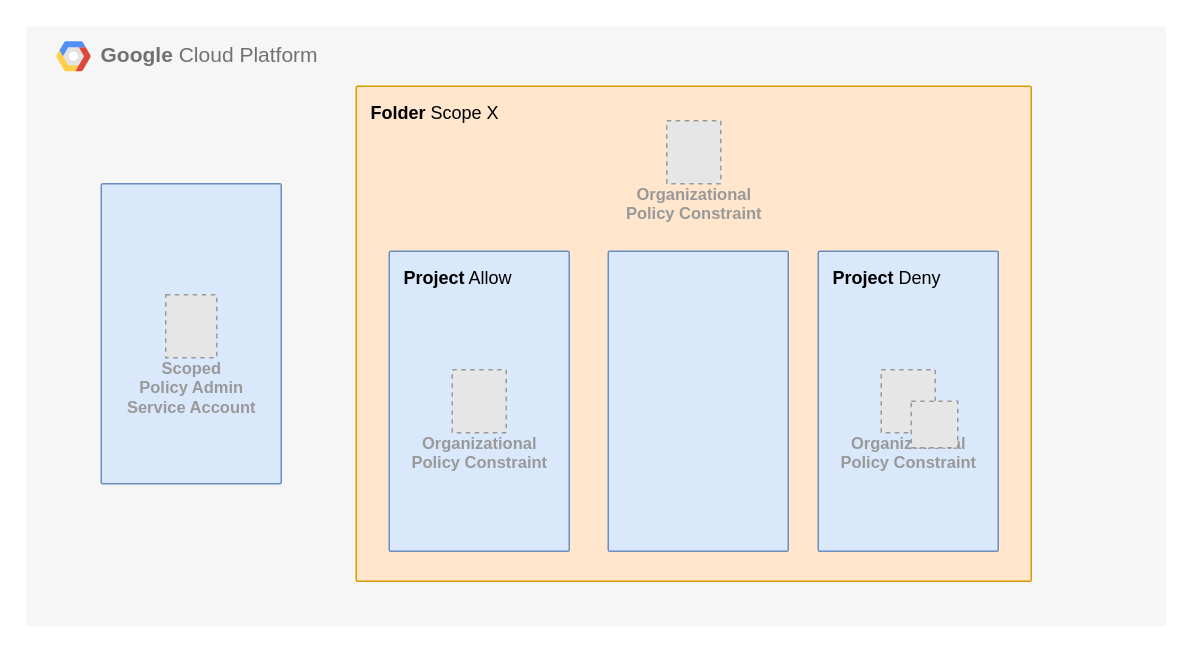
Some shapes in this 1191 by 651 pixel diagram are drawn without their labels. Grey dashed boxes stand in for pictures. Here are the shapes that lost their labels. From the top down, the box of each, then its label:
(100, 182, 281, 484): Project CI/CD
(607, 250, 788, 551): Project Inherit
